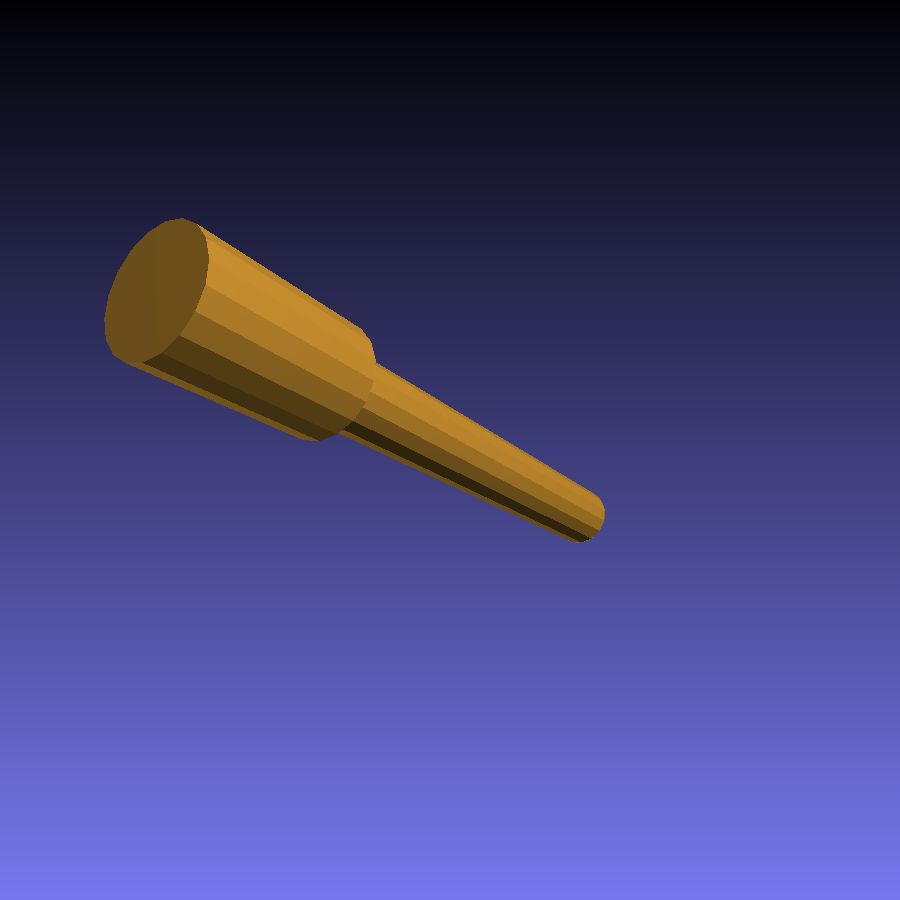cargo_g: (106, 218, 607, 543)
